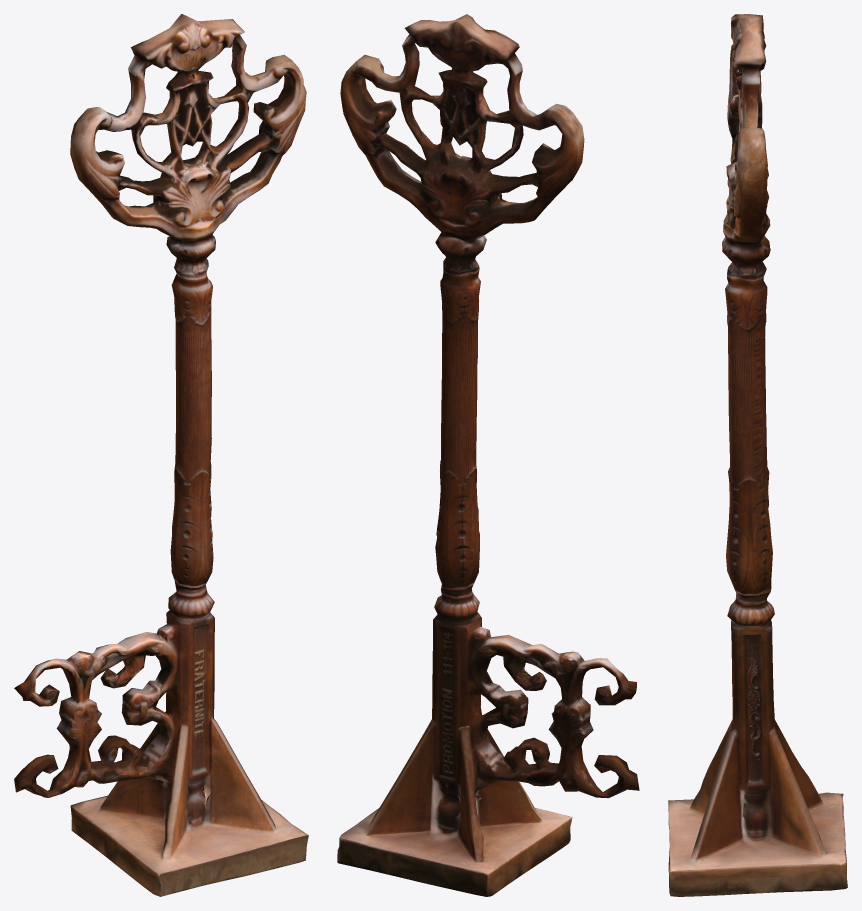
File: cle2.obj
3 renders of one model, left to right at view 1: azimuth 30°, elevation 25°; view 2: azimuth 150°, elevation 25°; view 3: azimuth 270°, elevation 25°, orthographic.
Visible parts, largest first — view 1: Object002; view 2: Object002; view 3: Object002.
Part boxes in pixels (bbox=[...]): Object002: bbox=[14, 14, 308, 896]; Object002: bbox=[337, 14, 639, 896]; Object002: bbox=[668, 14, 847, 896].
Bounding box in the file's own units: 0.6939 × 1.9 × 0.3687.
